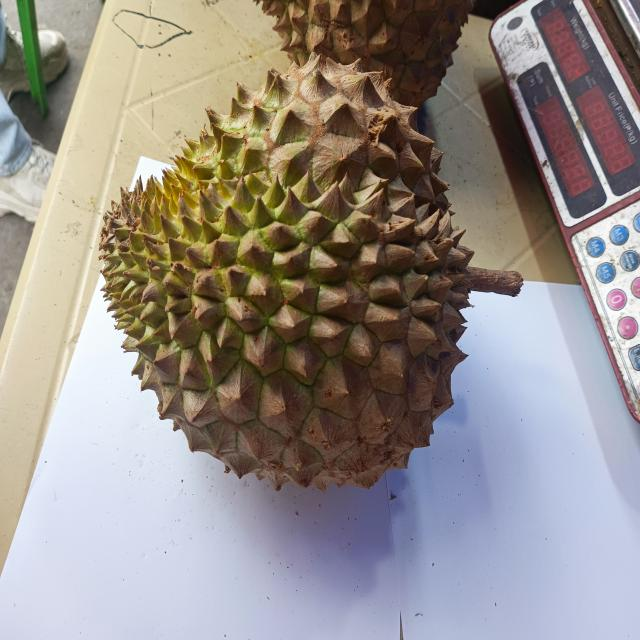mature: (96, 53, 474, 491)
